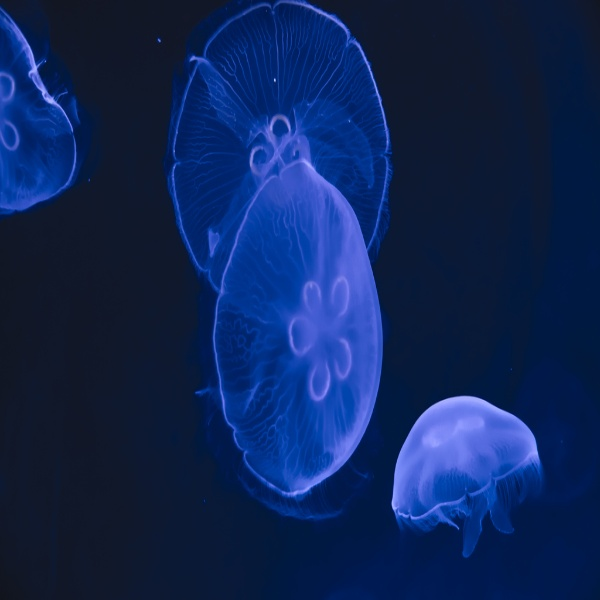Jellyfish: (203, 155, 381, 501), (394, 393, 544, 557), (0, 9, 83, 211)
